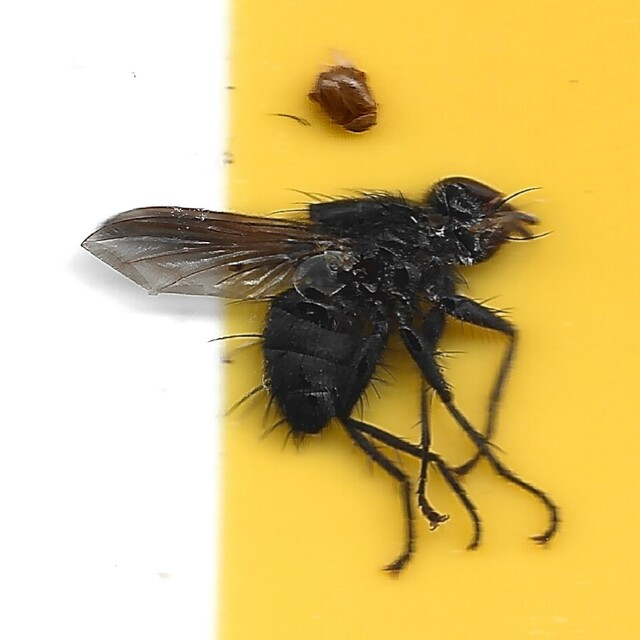Brachycera: (78, 178, 562, 575)
Coleoptera: (309, 65, 381, 135)
